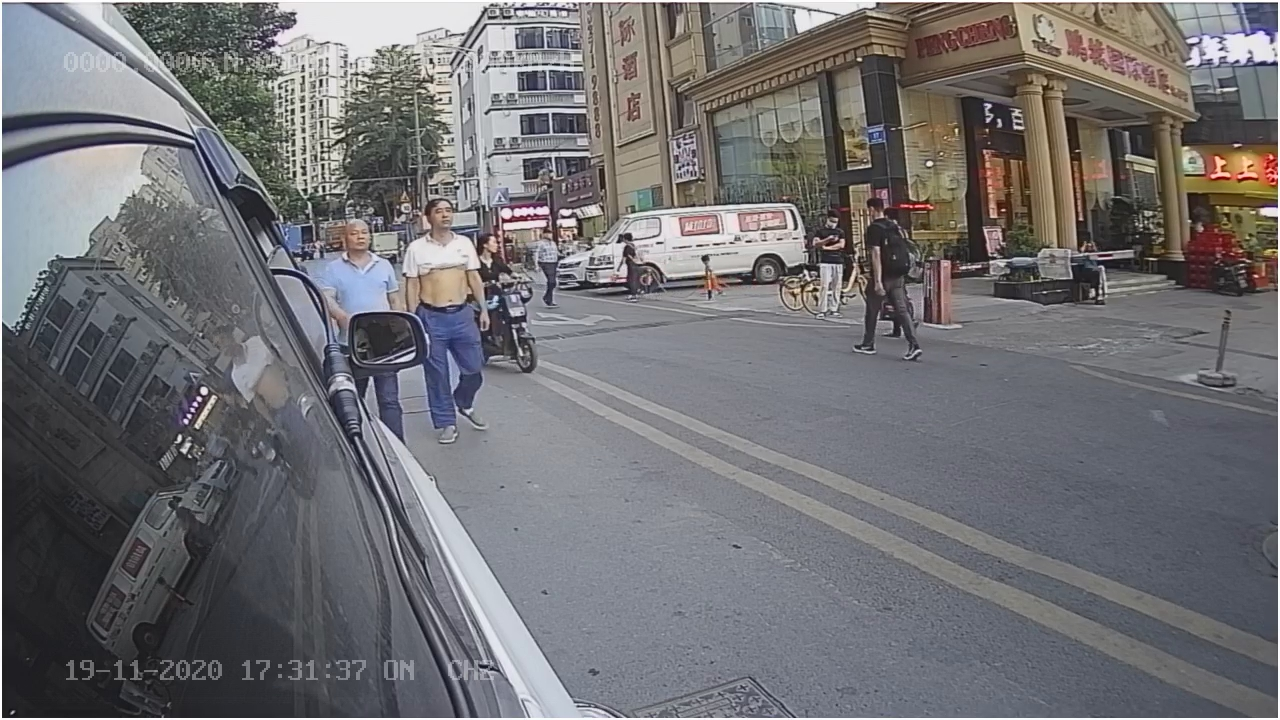person: (398, 195, 473, 306)
